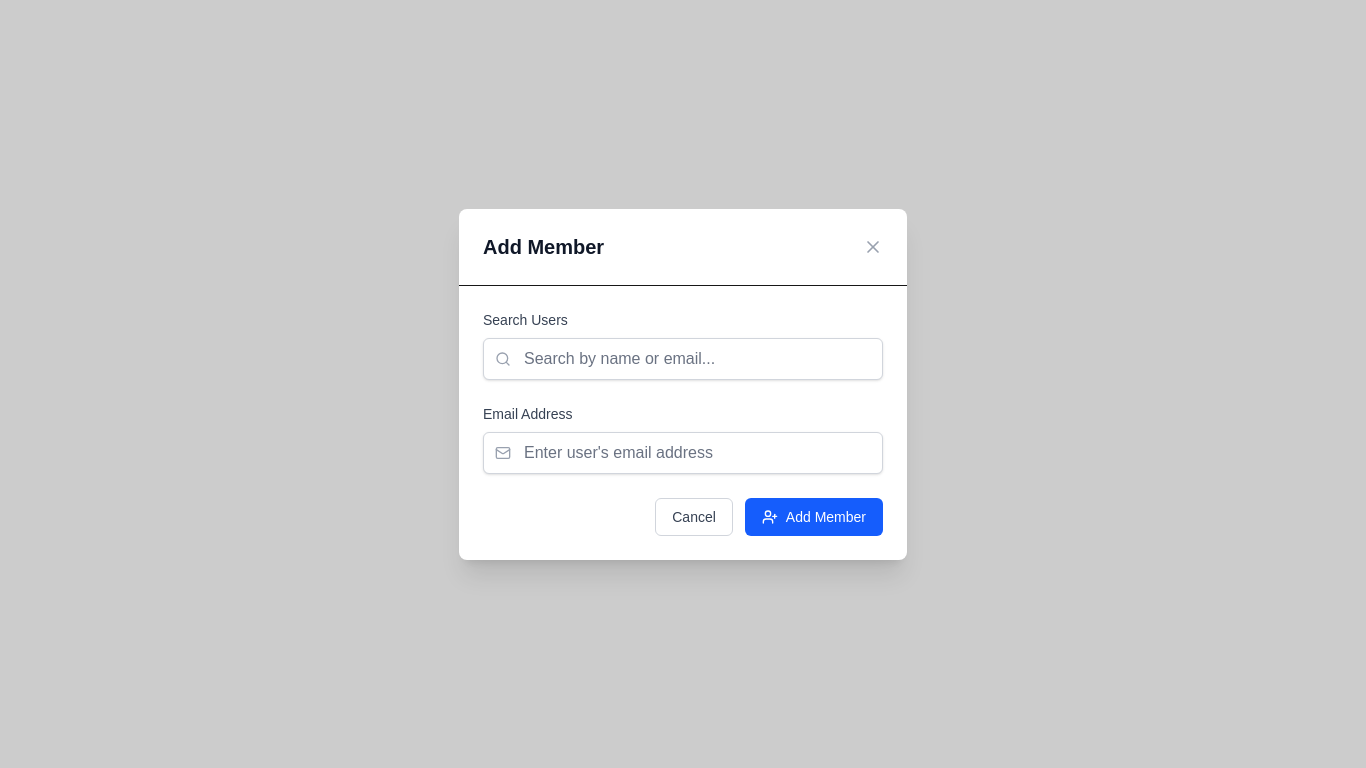
AddMemberModal › displays search results
The width and height of the screenshot is (1366, 768).
Type "john" into the field with placeholder "Search by name or email..." at coordinates (683, 358), box x1=483 y1=338 x2=883 y2=380
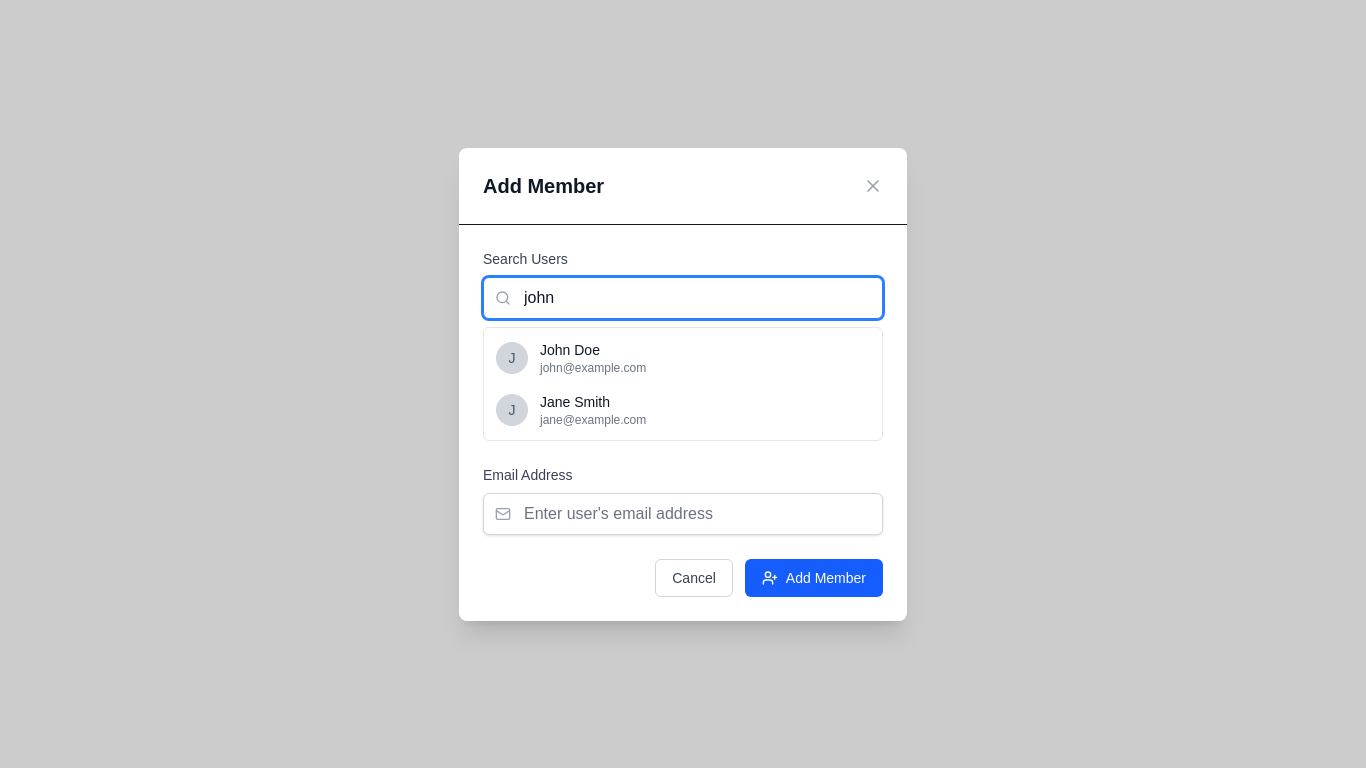
Now the text "John Doe" is shown, box x1=540 y1=342 x2=600 y2=358
Now the text "john@example.com" is shown, box x1=540 y1=360 x2=646 y2=376
Now the text "Jane Smith" is shown, box x1=540 y1=394 x2=610 y2=410
